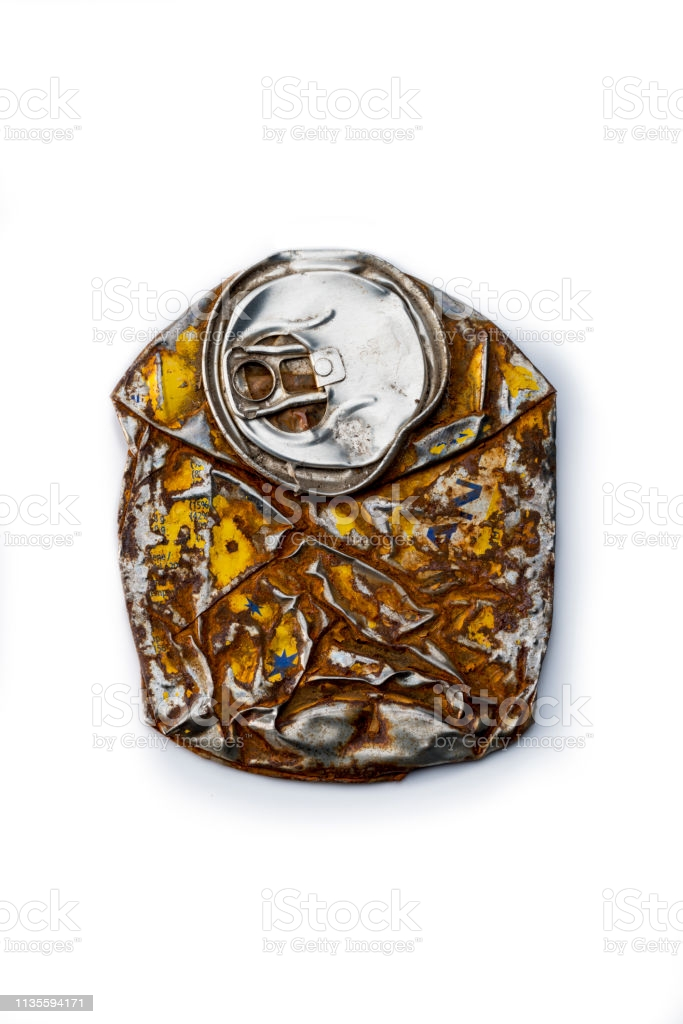can: (109, 248, 561, 788)
